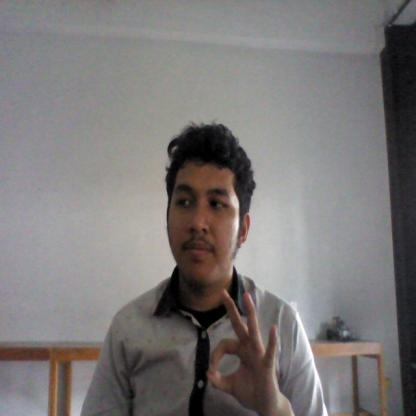O: (194, 285, 287, 406)
